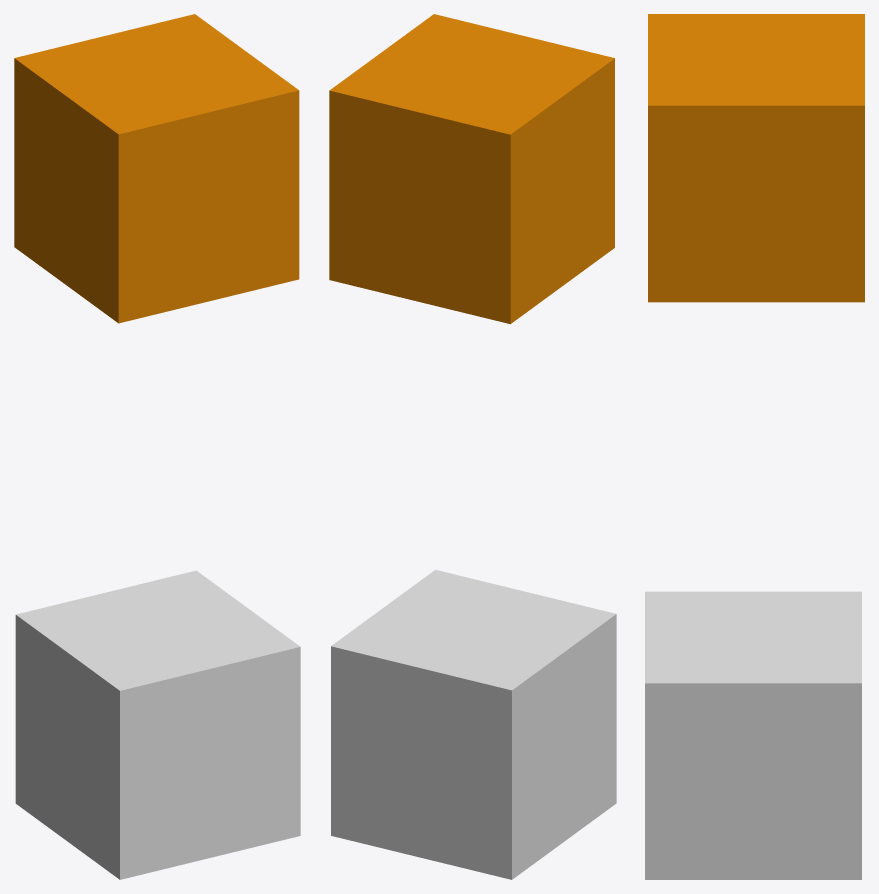
File: test_animation.glb
The picture shows the model from 3 angles, left to right: view 1: azimuth 30°, elevation 25°; view 2: azimuth 150°, elevation 25°; view 3: azimuth 270°, elevation 25°; orthographic projection. The views are drawn at different scales.
Visible parts, largest first — view 1: Cube, Cube.001; view 2: Cube, Cube.001; view 3: Cube, Cube.001.
Boxes of the visible parts, x1,y1,x2,y2 form: Cube: (14, 14, 299, 323); Cube.001: (15, 570, 300, 879); Cube: (329, 14, 614, 324); Cube.001: (331, 569, 616, 879); Cube: (648, 14, 864, 302); Cube.001: (645, 591, 861, 879).
Bounding box in the file's own units: 2 × 7.88 × 2.03.
